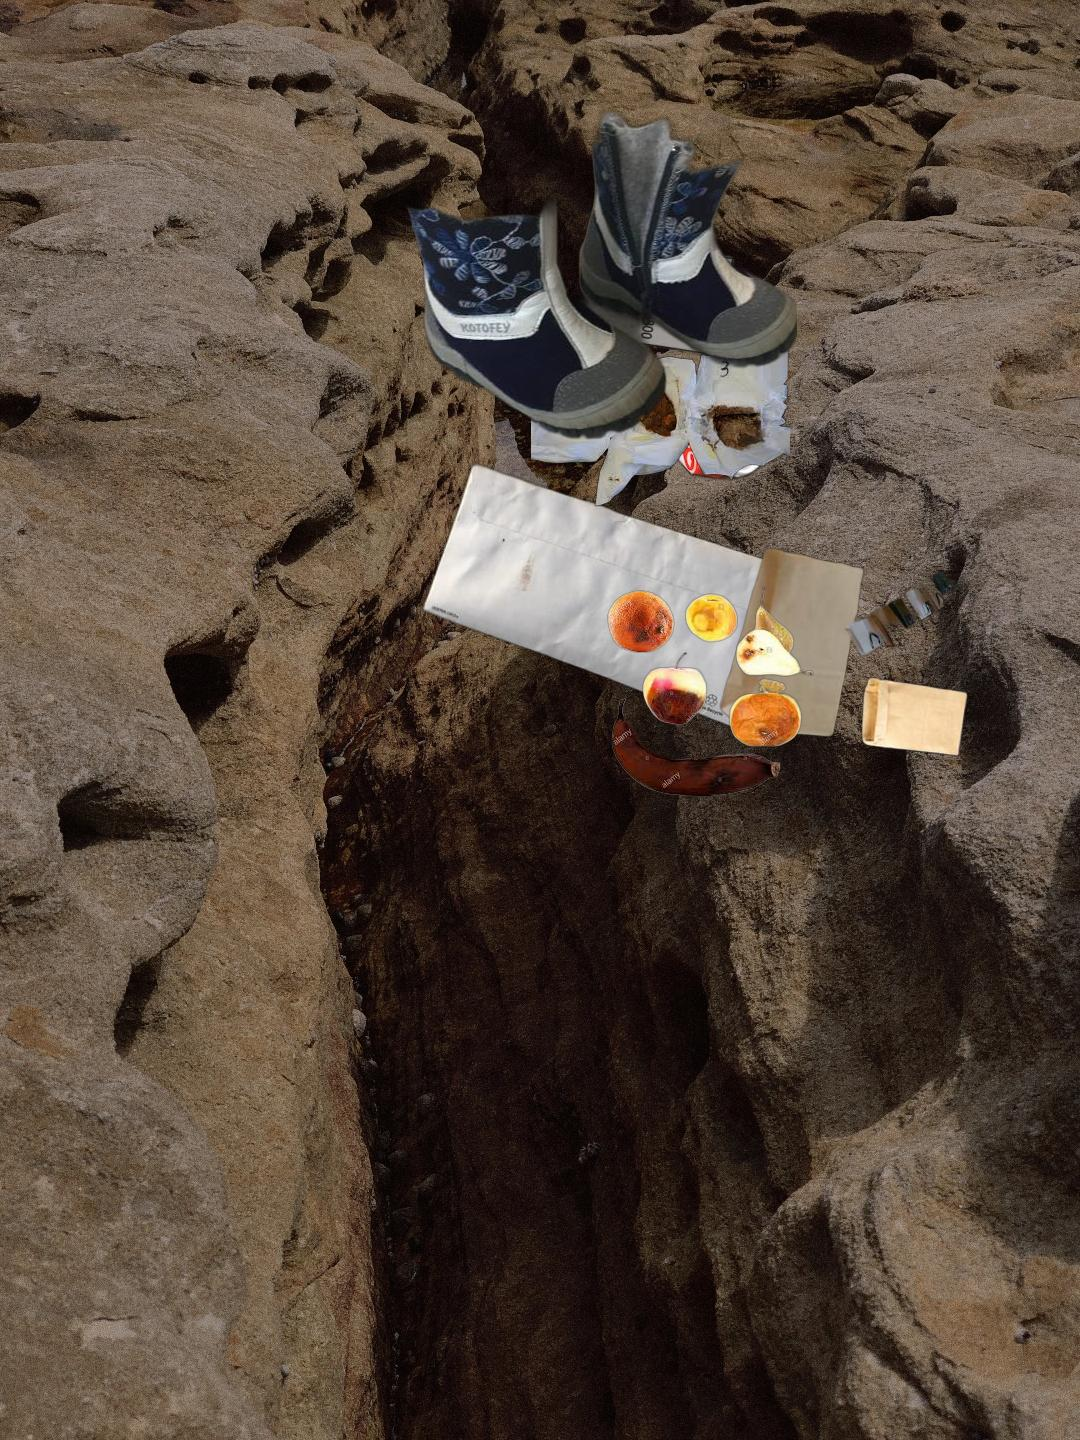biological: (605, 586, 816, 799)
metal-cans: (512, 366, 1024, 857)
paper: (417, 459, 801, 732), (605, 162, 815, 403)
paper-bag: (717, 545, 970, 759)
shoes: (403, 61, 798, 443)
trash: (531, 342, 790, 509)
